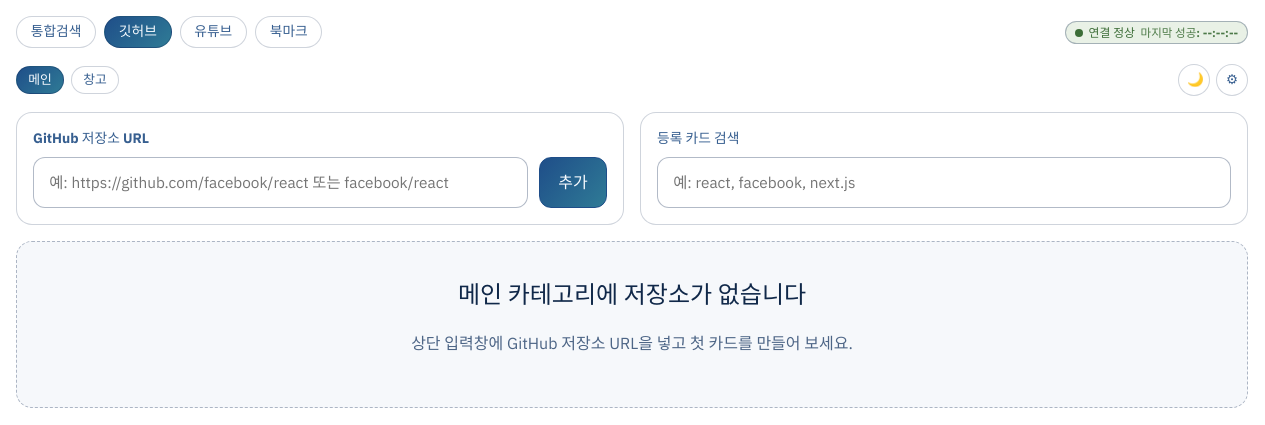
Test: AppShell › switches to youtube board with youtube input
Click the tab "유튜브". click: point(213, 32)
box: [180,16,247,48]
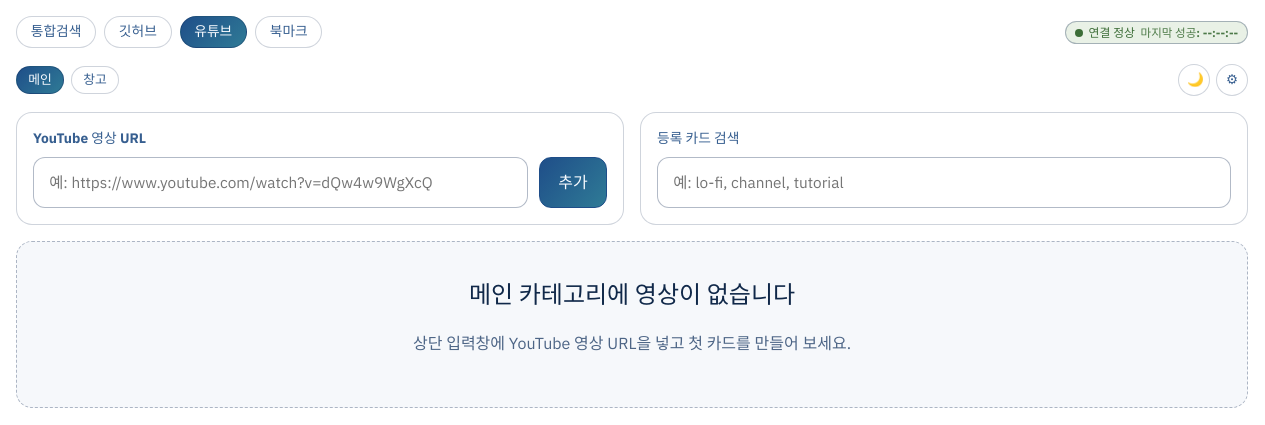
Expected: the field labelled "YouTube 영상 URL" is shown, [33,157,528,208]
Expected: the label labelled "GitHub 저장소 URL" is gone
